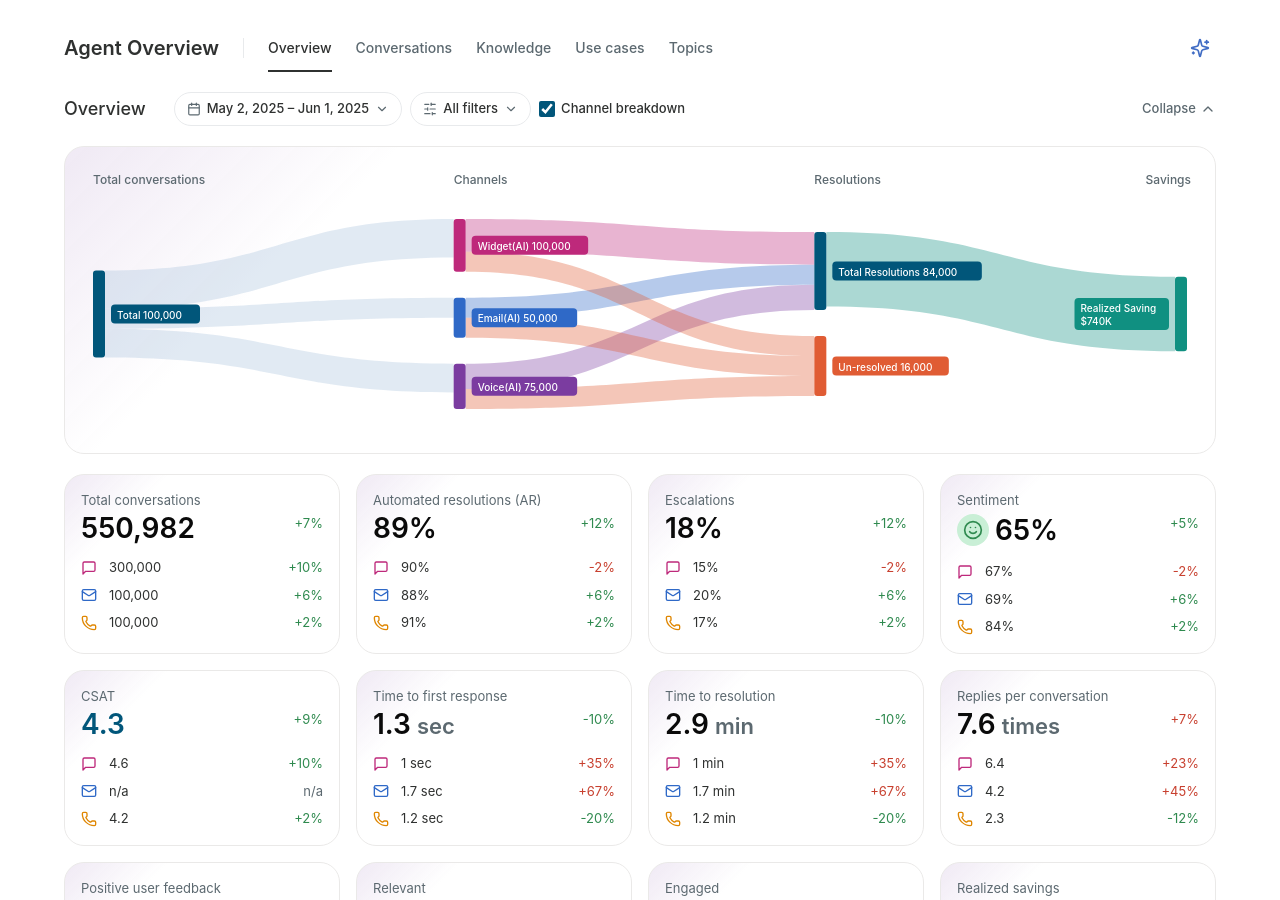
Test: per-screen header AI triggers (route-derived scope) › opens the scoped assistant from /insights/agent-overview header
Click the button named "Ask AI about this page" at point(1200, 48), box [1184, 32, 1216, 64]
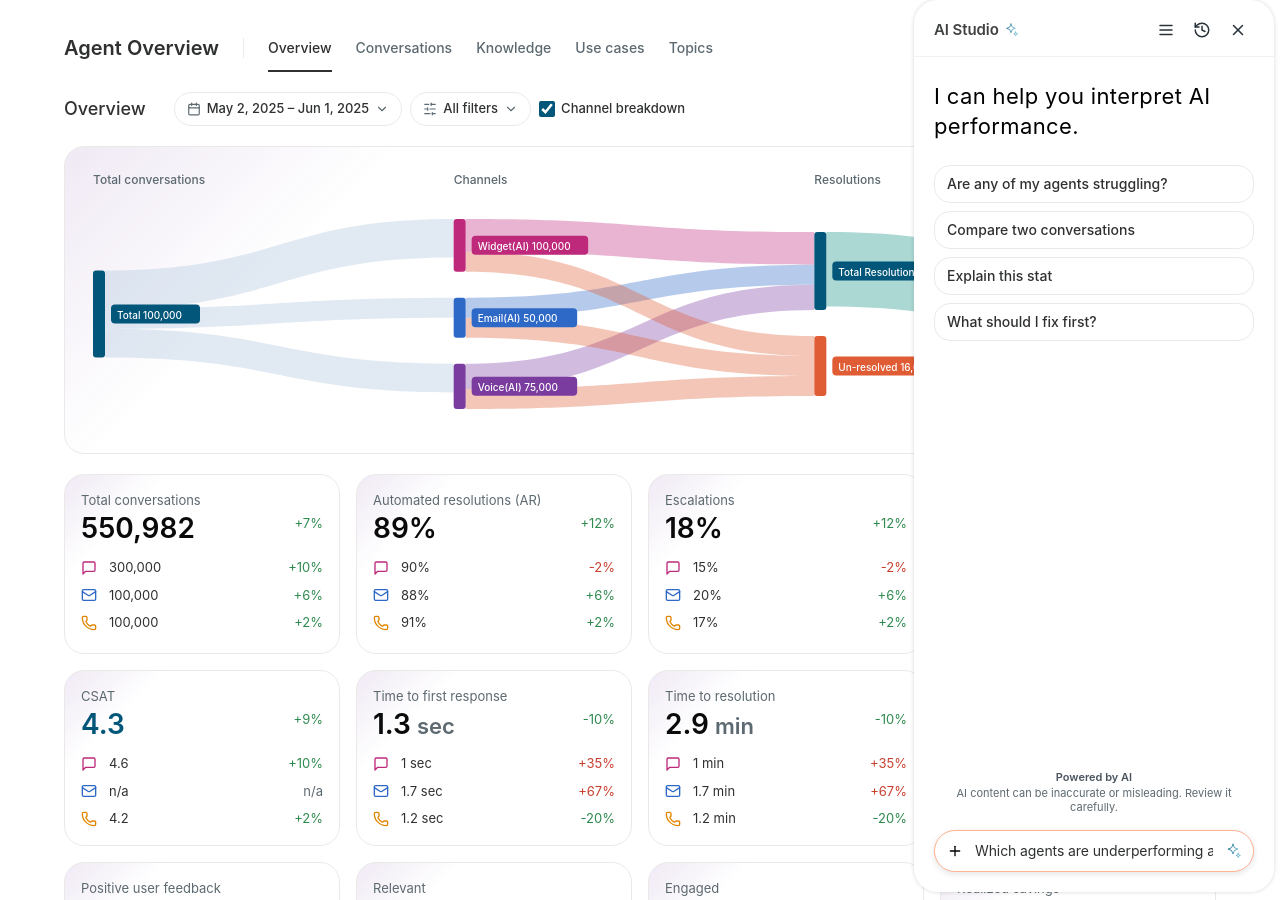
Now the element with test id "ai-studio-panel" is shown, box [914, 0, 1274, 892]
Now the text "I can help you interpret AI performance." is shown, box [934, 81, 1254, 141]
